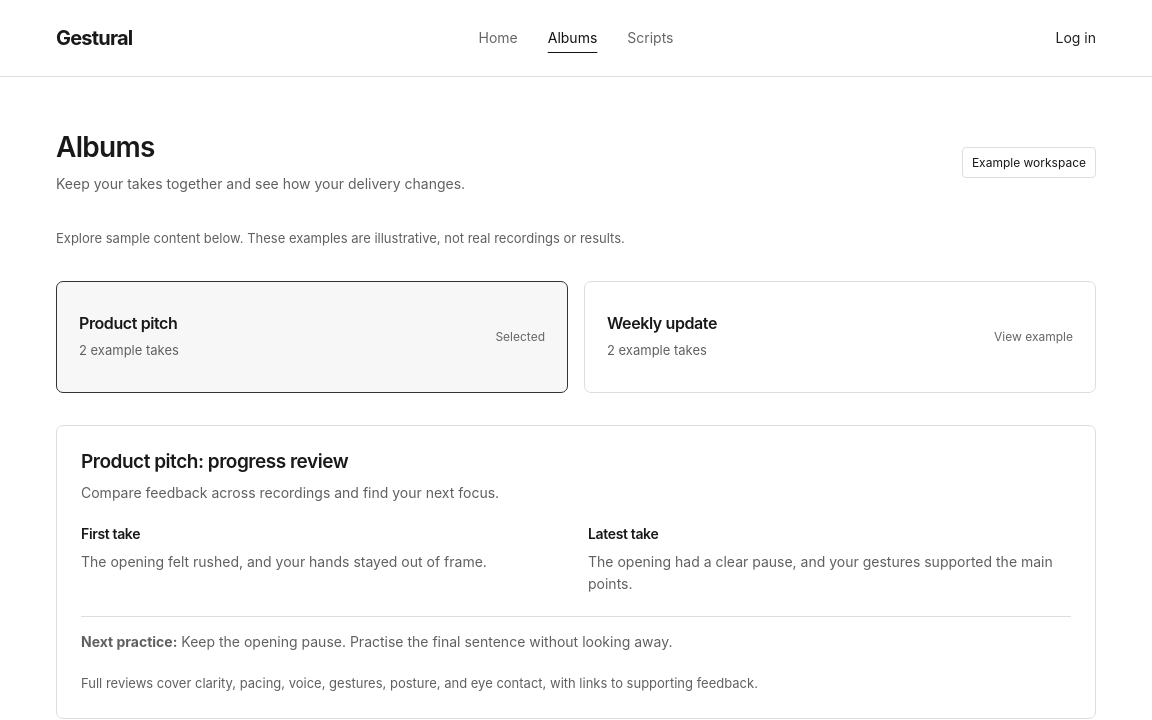
Test: shows album examples without fetching private albums and switches the comparison
Expected: the text "Example workspace" is shown, [962,147,1096,178]
Expected: the heading "Product pitch: progress review" is shown, [81,450,348,473]
Click the button "Weekly update 2 example takes View example" at (662, 323), box [584,281,1096,393]
(page scrolled)
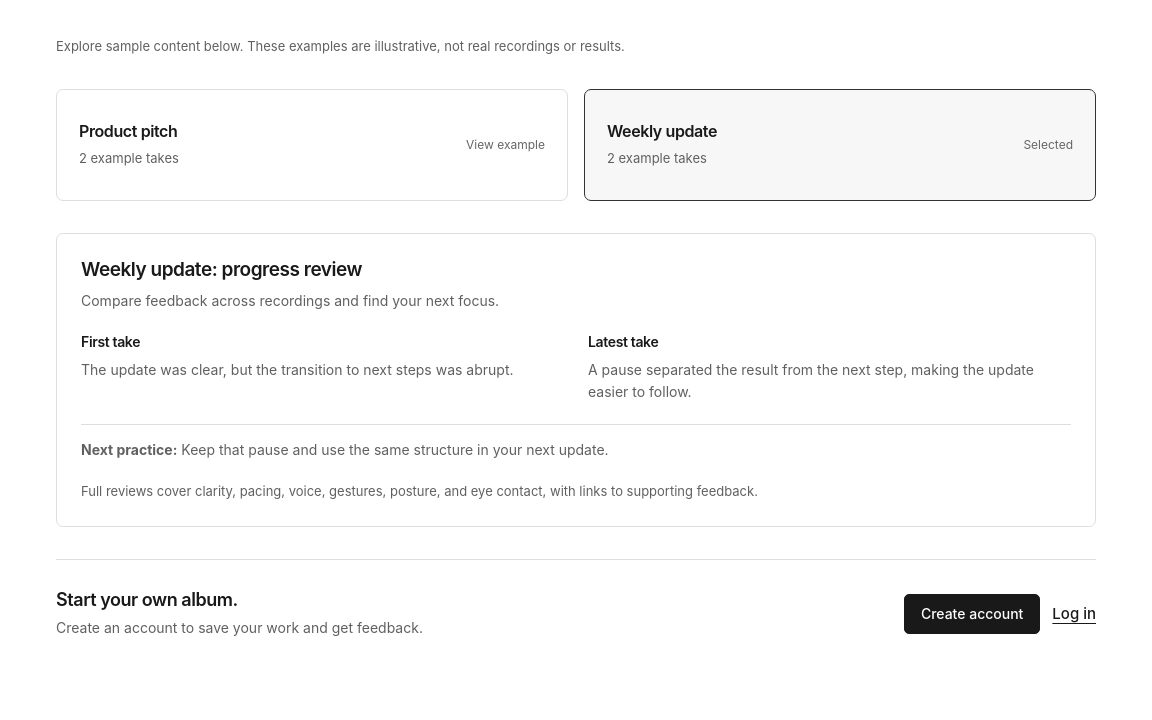
Expected: the heading "Weekly update: progress review" is shown, [81,258,362,281]
